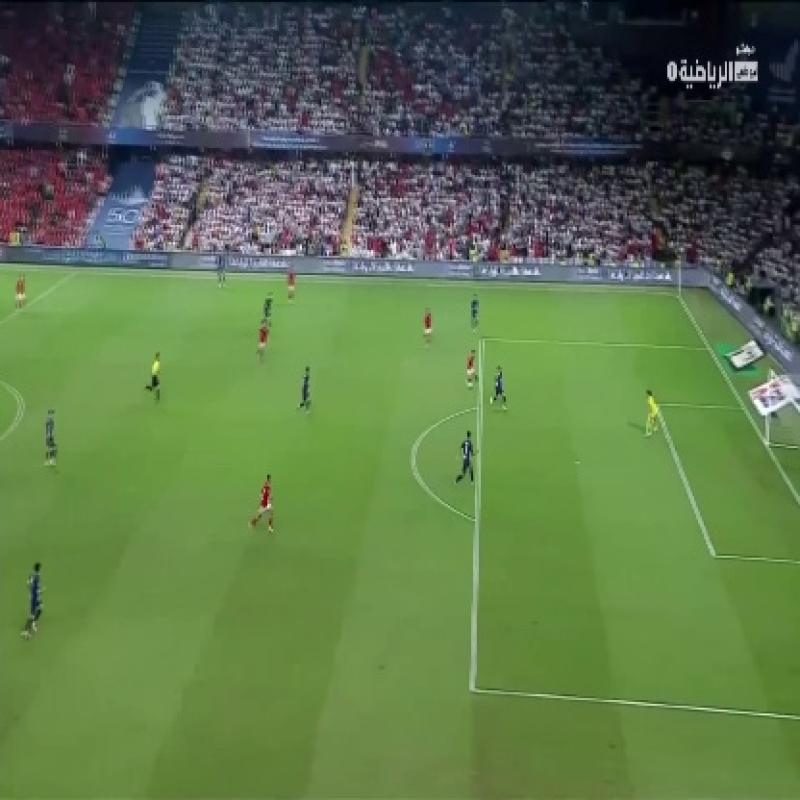1: (671, 288, 686, 304)
10: (472, 399, 488, 416)
11: (466, 511, 484, 527)
12: (462, 677, 484, 701)
13: (60, 264, 90, 280)
2: (700, 342, 711, 354)
3: (732, 398, 746, 415)
8: (706, 542, 720, 564)
9: (475, 334, 490, 346)
c: (7, 404, 30, 434)
